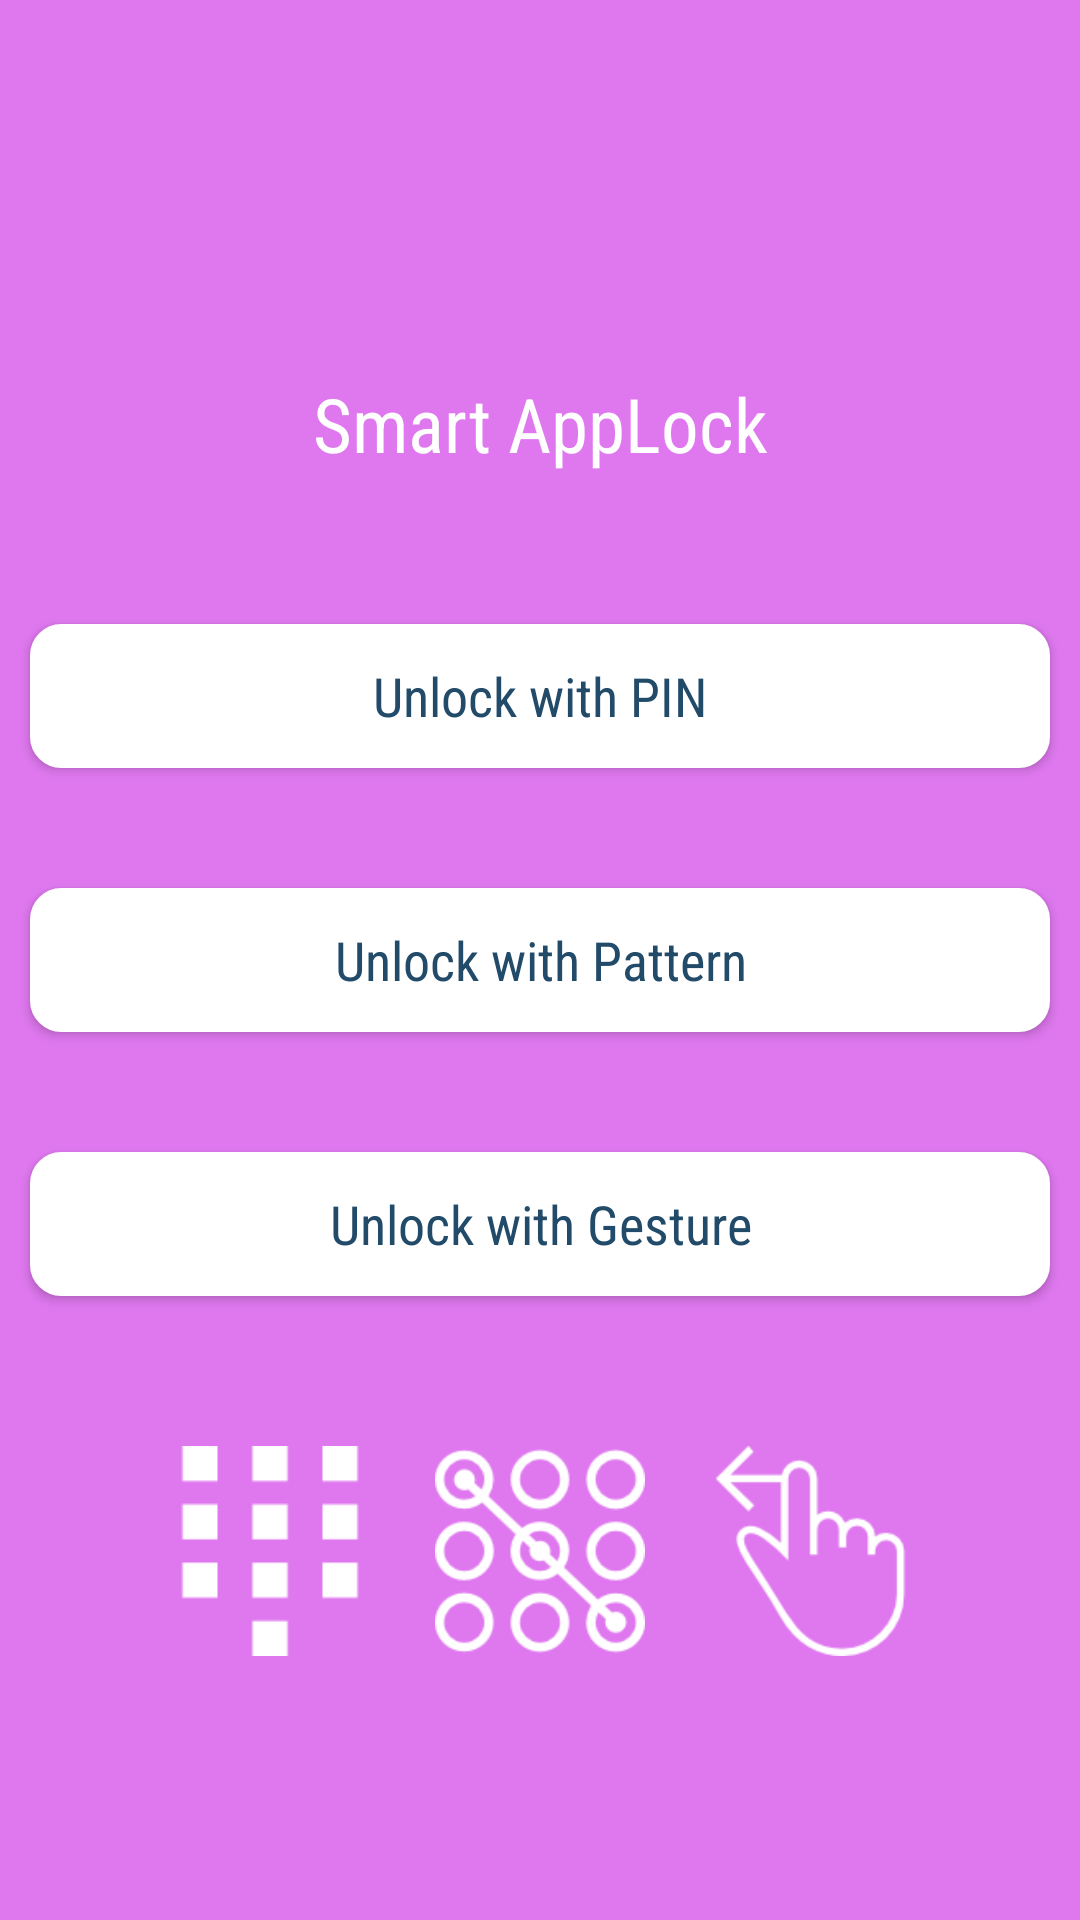

Named icons in this screenshot (1080px×1920px) and their centers, [x,y]:
dial: [270,1551]
draw: [810,1551]
pattern: [540,1551]
